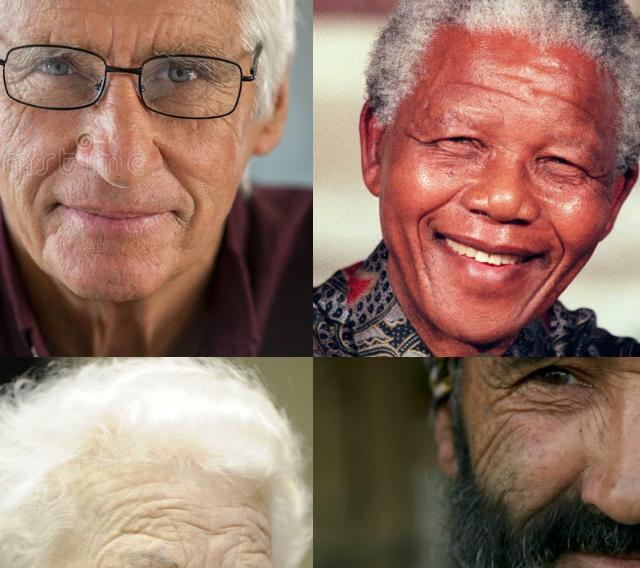crows_feet: (487, 373, 518, 413), (200, 70, 232, 98), (402, 127, 433, 149), (589, 164, 611, 190)
forehead: (101, 493, 183, 544), (532, 83, 590, 121), (462, 76, 520, 106), (232, 519, 272, 559), (46, 0, 87, 16)
frown_line: (103, 26, 121, 58), (132, 27, 146, 53), (198, 557, 222, 568)
gummy_smile: (544, 468, 582, 506), (427, 180, 461, 214), (41, 146, 73, 178), (154, 144, 178, 184), (548, 222, 570, 256)
masseter: (480, 423, 508, 471), (6, 105, 34, 139)
sad_smile: (412, 234, 436, 292), (529, 265, 555, 311), (180, 196, 204, 228)
